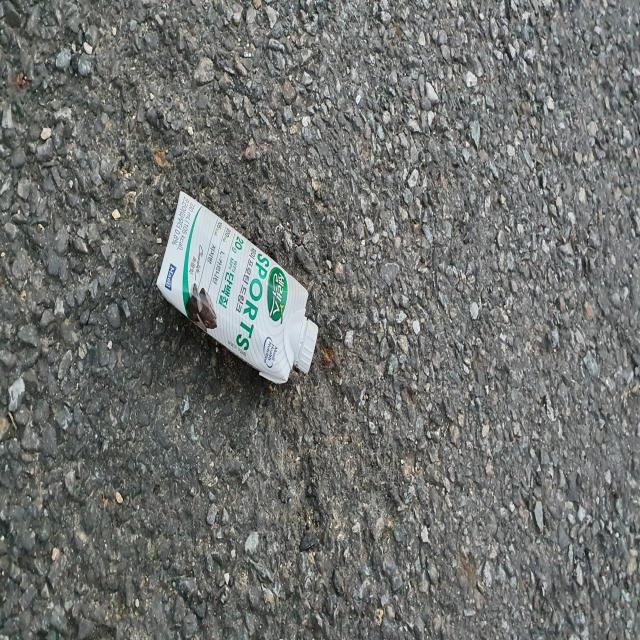paperpack: (156, 191, 318, 383)
